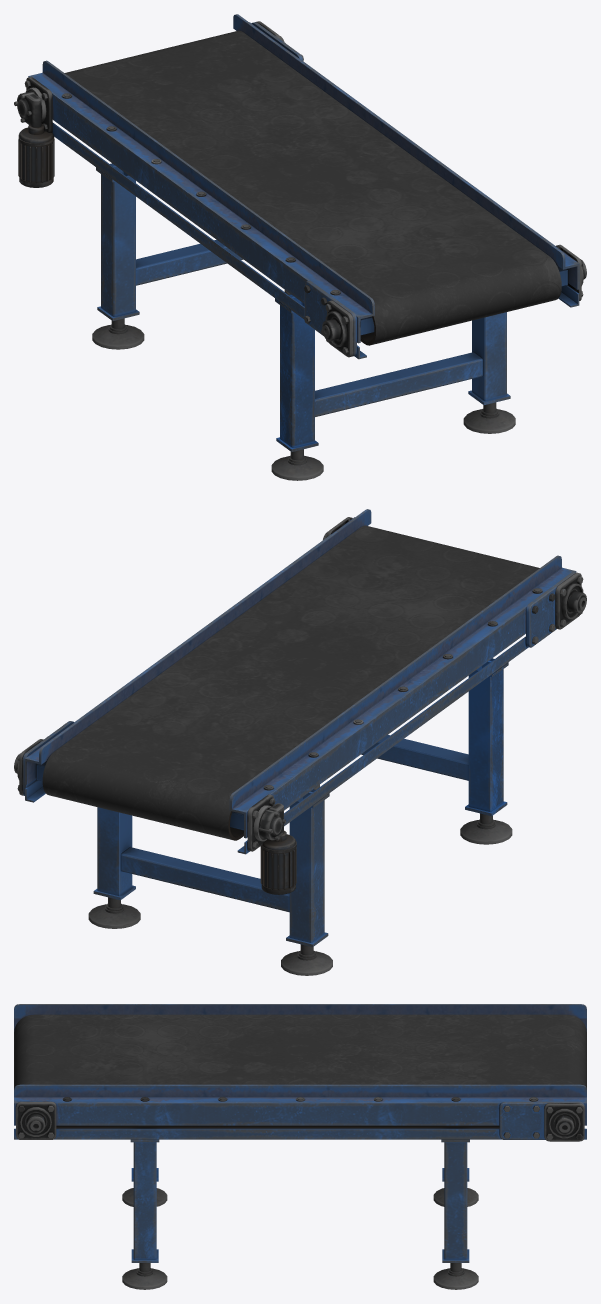
The model's file is simple_rubber_conveyor.glb.
3 renders of one model, top to bottom at view 1: azimuth 30°, elevation 25°; view 2: azimuth 150°, elevation 25°; view 3: azimuth 270°, elevation 25°, orthographic. The views are drawn at different scales.
Parts seen in each view (by area): view 1: Conveyor01Belt, Conveyor01Frame01, Conveyor01Legs, Conveyor01Frame02; view 2: Conveyor01Belt, Conveyor01Frame01, Conveyor01Legs, Conveyor01Frame02; view 3: Conveyor01Belt, Conveyor01Frame02, Conveyor01Legs, Conveyor01Frame01, Conveyor01Frame.
Boxes of the visible parts, box(x1,y1,x2,y2) form: Conveyor01Belt: box(65, 30, 561, 344); Conveyor01Frame01: box(14, 60, 374, 359); Conveyor01Legs: box(92, 163, 515, 480); Conveyor01Frame02: box(233, 14, 586, 307); Conveyor01Belt: box(42, 525, 539, 840); Conveyor01Frame01: box(229, 555, 586, 894); Conveyor01Legs: box(88, 658, 512, 975); Conveyor01Frame02: box(14, 509, 371, 802); Conveyor01Belt: box(14, 1014, 586, 1089); Conveyor01Frame02: box(14, 1084, 586, 1141); Conveyor01Legs: box(122, 1139, 478, 1289); Conveyor01Frame01: box(14, 1004, 586, 1031); Conveyor01Frame: box(56, 1125, 499, 1128).
Bounding box in the file's own units: 0.9422 × 0.7494 × 2.
Materials: 2 (2 with a texture image).
